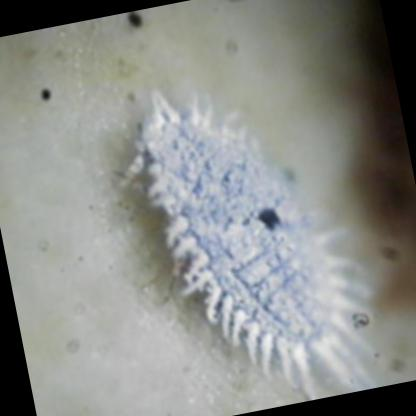mealy bug: (137, 94, 364, 386), (135, 95, 362, 379)
